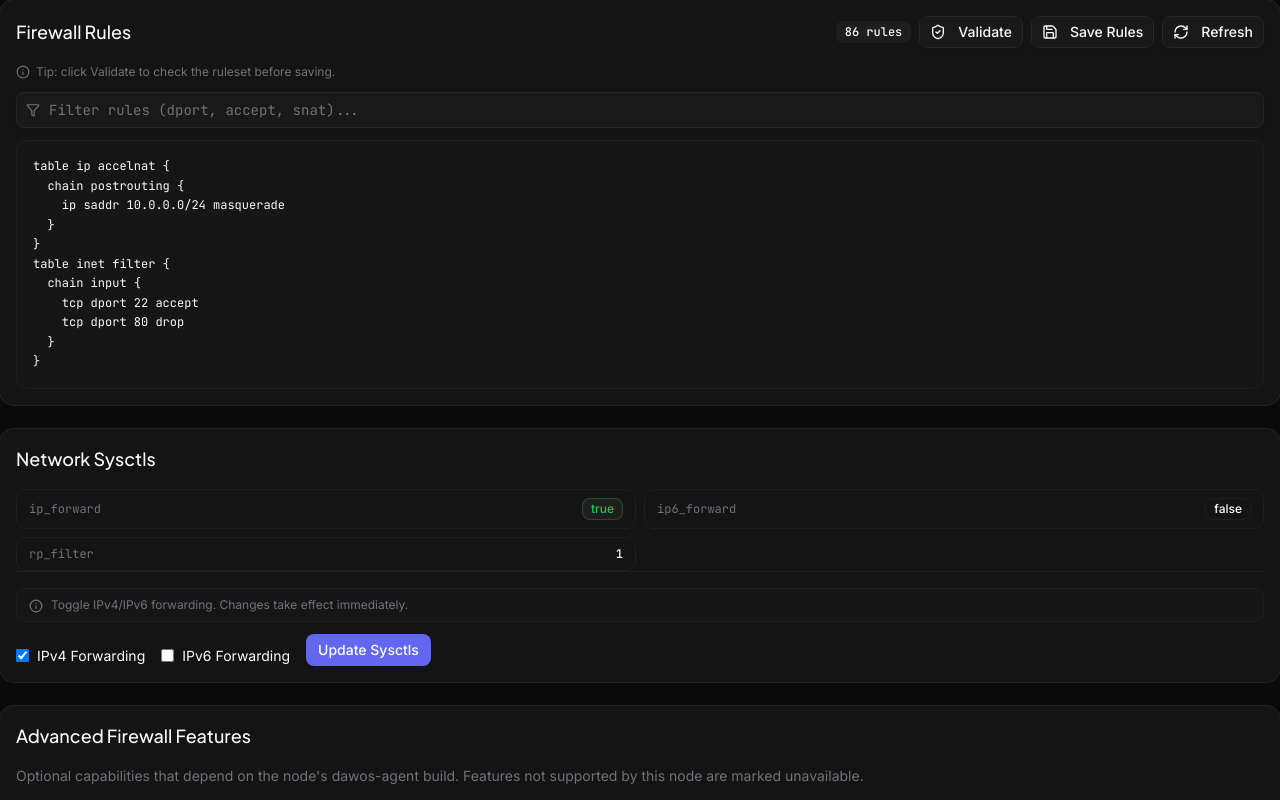
Scenario: FirewallPage › shows a no-match note when the filter matches nothing
Step 1. Type "zzzznomatch" into the field with placeholder "Filter rules (dport, accept, snat)..." → (640, 110), box [16,92,1264,128]
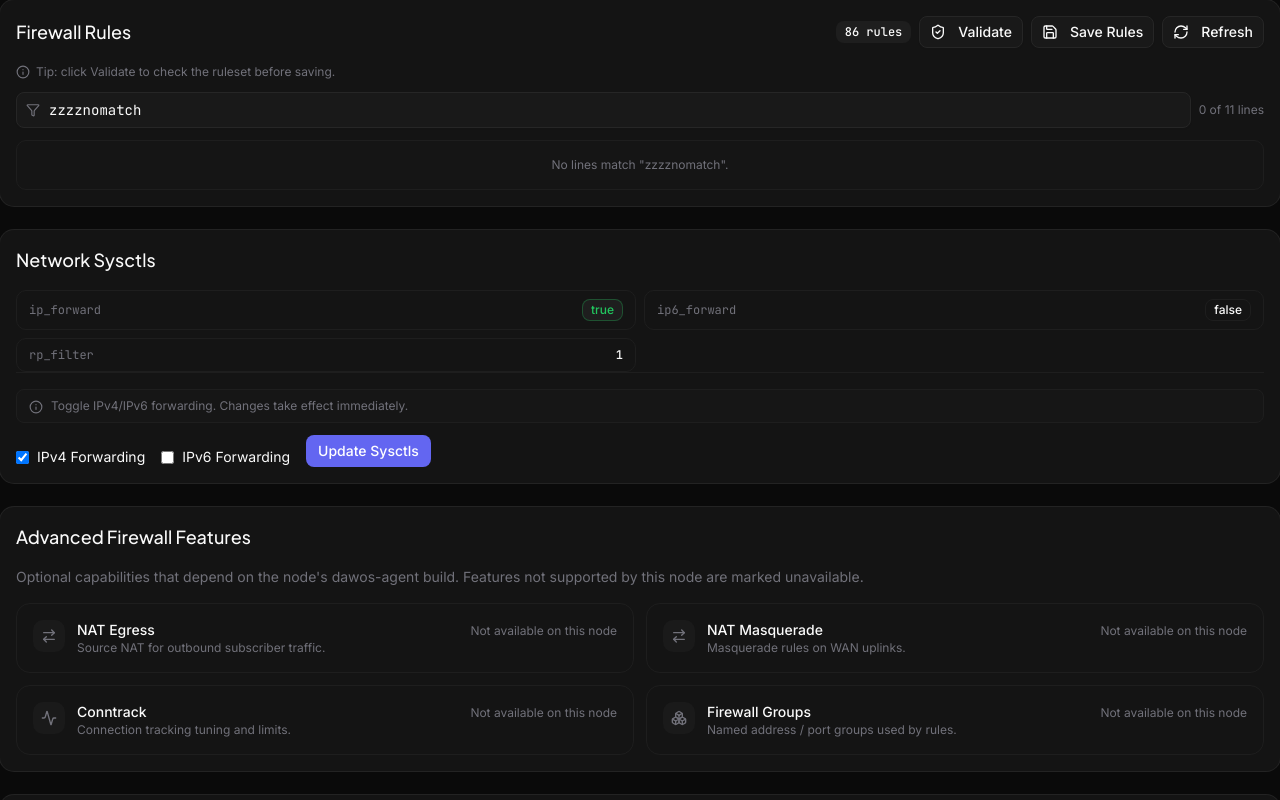
Expected: the text "No lines match \"zzzznomatch\"." is shown, [16,140,1264,190]
